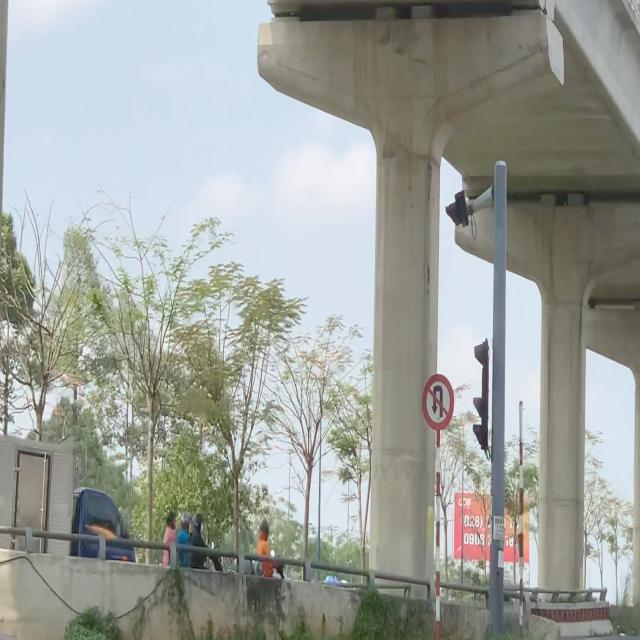Cam quay dau xe: (420, 372, 456, 433)
